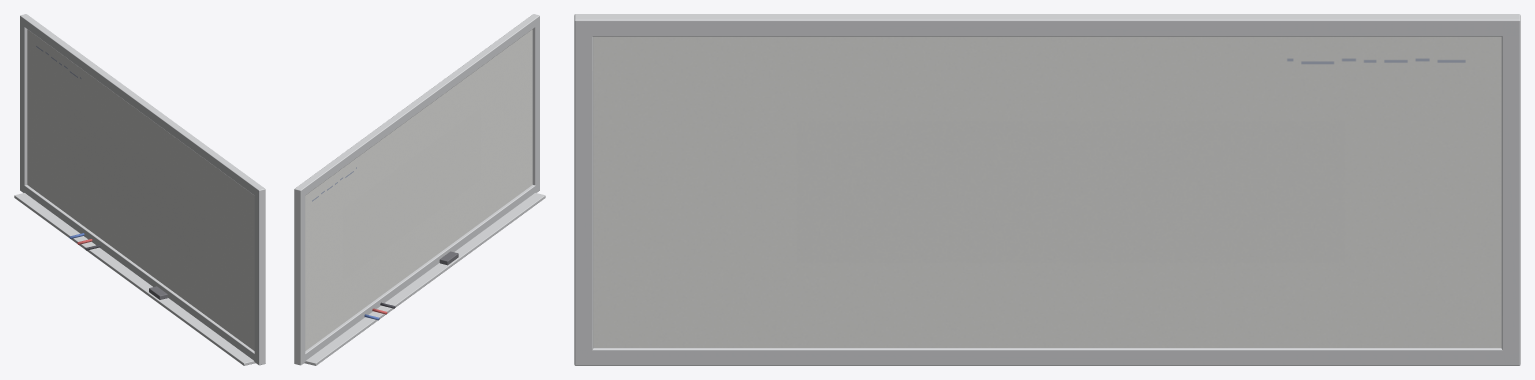
The model's file is aula.pizarra.fbx.
3 views of the same model, side by side, from view 1: azimuth 30°, elevation 25°; view 2: azimuth 150°, elevation 25°; view 3: azimuth 270°, elevation 25° (orthographic). The views are drawn at different scales.
Visible parts, largest first — view 1: Pizarra, Marco.001, Bandeja, Marco, Marco.003, Marco.002; view 2: Pizarra, Marco.001, Bandeja, Marco, Marco.002, Marco.003; view 3: Pizarra, Marco.001, Marco, Marco.002, Marco.003.
Part boxes in pixels (left/top/right/bottom): Pizarra: left=27, top=29, right=254, bottom=350; Marco.001: left=20, top=14, right=265, bottom=198; Bandeja: left=14, top=193, right=255, bottom=365; Marco: left=20, top=184, right=265, bottom=365; Marco.003: left=254, top=188, right=265, bottom=365; Marco.002: left=20, top=16, right=27, bottom=192; Pizarra: left=305, top=29, right=532, bottom=350; Marco.001: left=294, top=14, right=539, bottom=198; Bandeja: left=304, top=193, right=545, bottom=365; Marco: left=294, top=183, right=539, bottom=364; Marco.002: left=294, top=189, right=305, bottom=365; Marco.003: left=532, top=16, right=539, bottom=192; Pizarra: left=593, top=36, right=1501, bottom=347; Marco.001: left=574, top=14, right=1520, bottom=36; Marco: left=574, top=348, right=1520, bottom=365; Marco.002: left=1501, top=21, right=1520, bottom=365; Marco.003: left=574, top=21, right=593, bottom=365.
Size of the model in its own units: 0.15 by 1.23 by 3.02.
6 materials, 1 textured.
